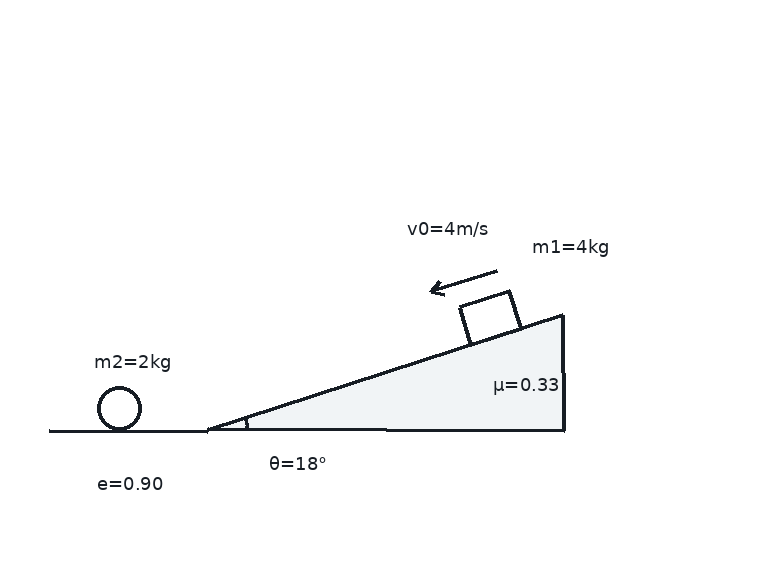ball: (95, 384, 143, 432)
block: (457, 289, 523, 346)
ramp: (205, 312, 566, 432)
